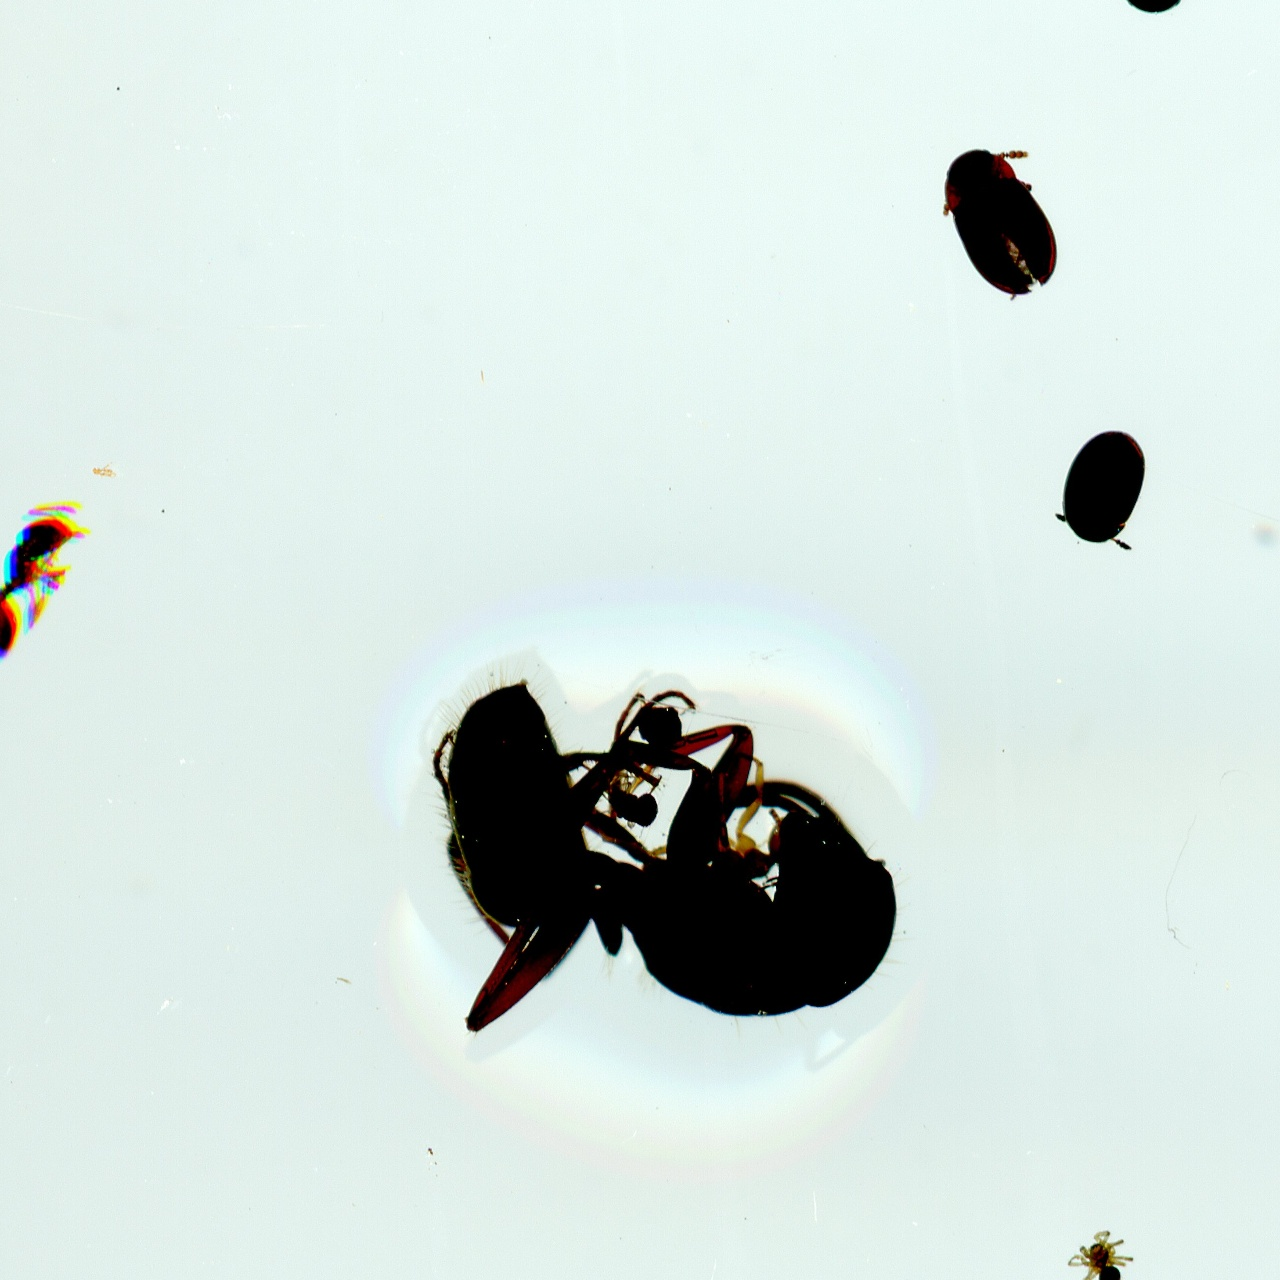arthropod: (428, 672, 901, 1030), (944, 141, 1062, 306), (0, 503, 80, 658), (1057, 430, 1148, 549), (1063, 1224, 1132, 1280)
